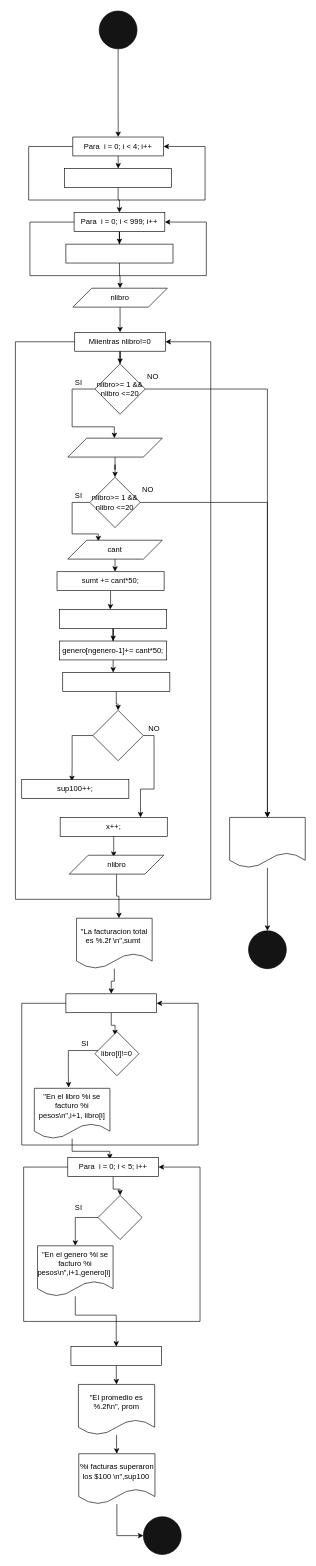
This 316x1566 diagram has some shape labels left out. Here are the shapes that lost their labels. From the top down, the box of each, then its label:
(64, 168, 172, 187): valor[i][1]=0;
(65, 243, 173, 263): cliente[i]=999999;
(67, 438, 162, 457): ngenero
(59, 609, 167, 628): libro[nlibro-1]+= cant*50;
(62, 672, 170, 691): factura = cant*50;
(92, 710, 143, 761): factura>100
(229, 817, 305, 868): "Valor ingresado invalido\n"
(65, 993, 157, 1013): Para i = 0; i < 20; i++
(97, 1195, 142, 1240): genero[i]!=0
(70, 1346, 162, 1366): prom = sumt/ x;
